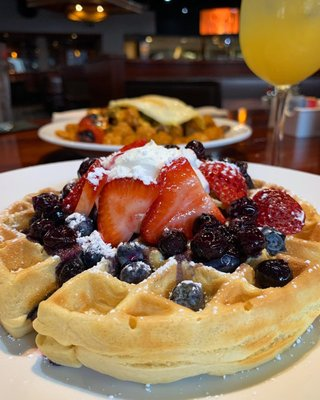curry: (0, 76, 319, 400)
sandwich: (3, 137, 320, 386), (238, 0, 320, 149)
